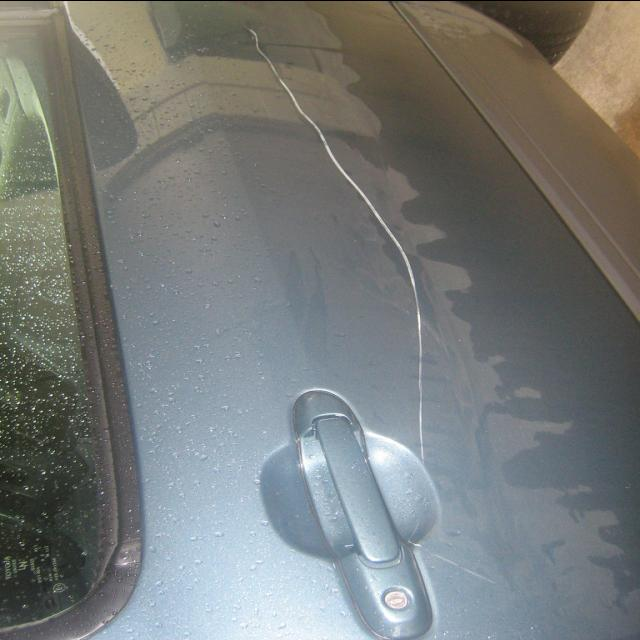paint-trace: (231, 16, 513, 591)
